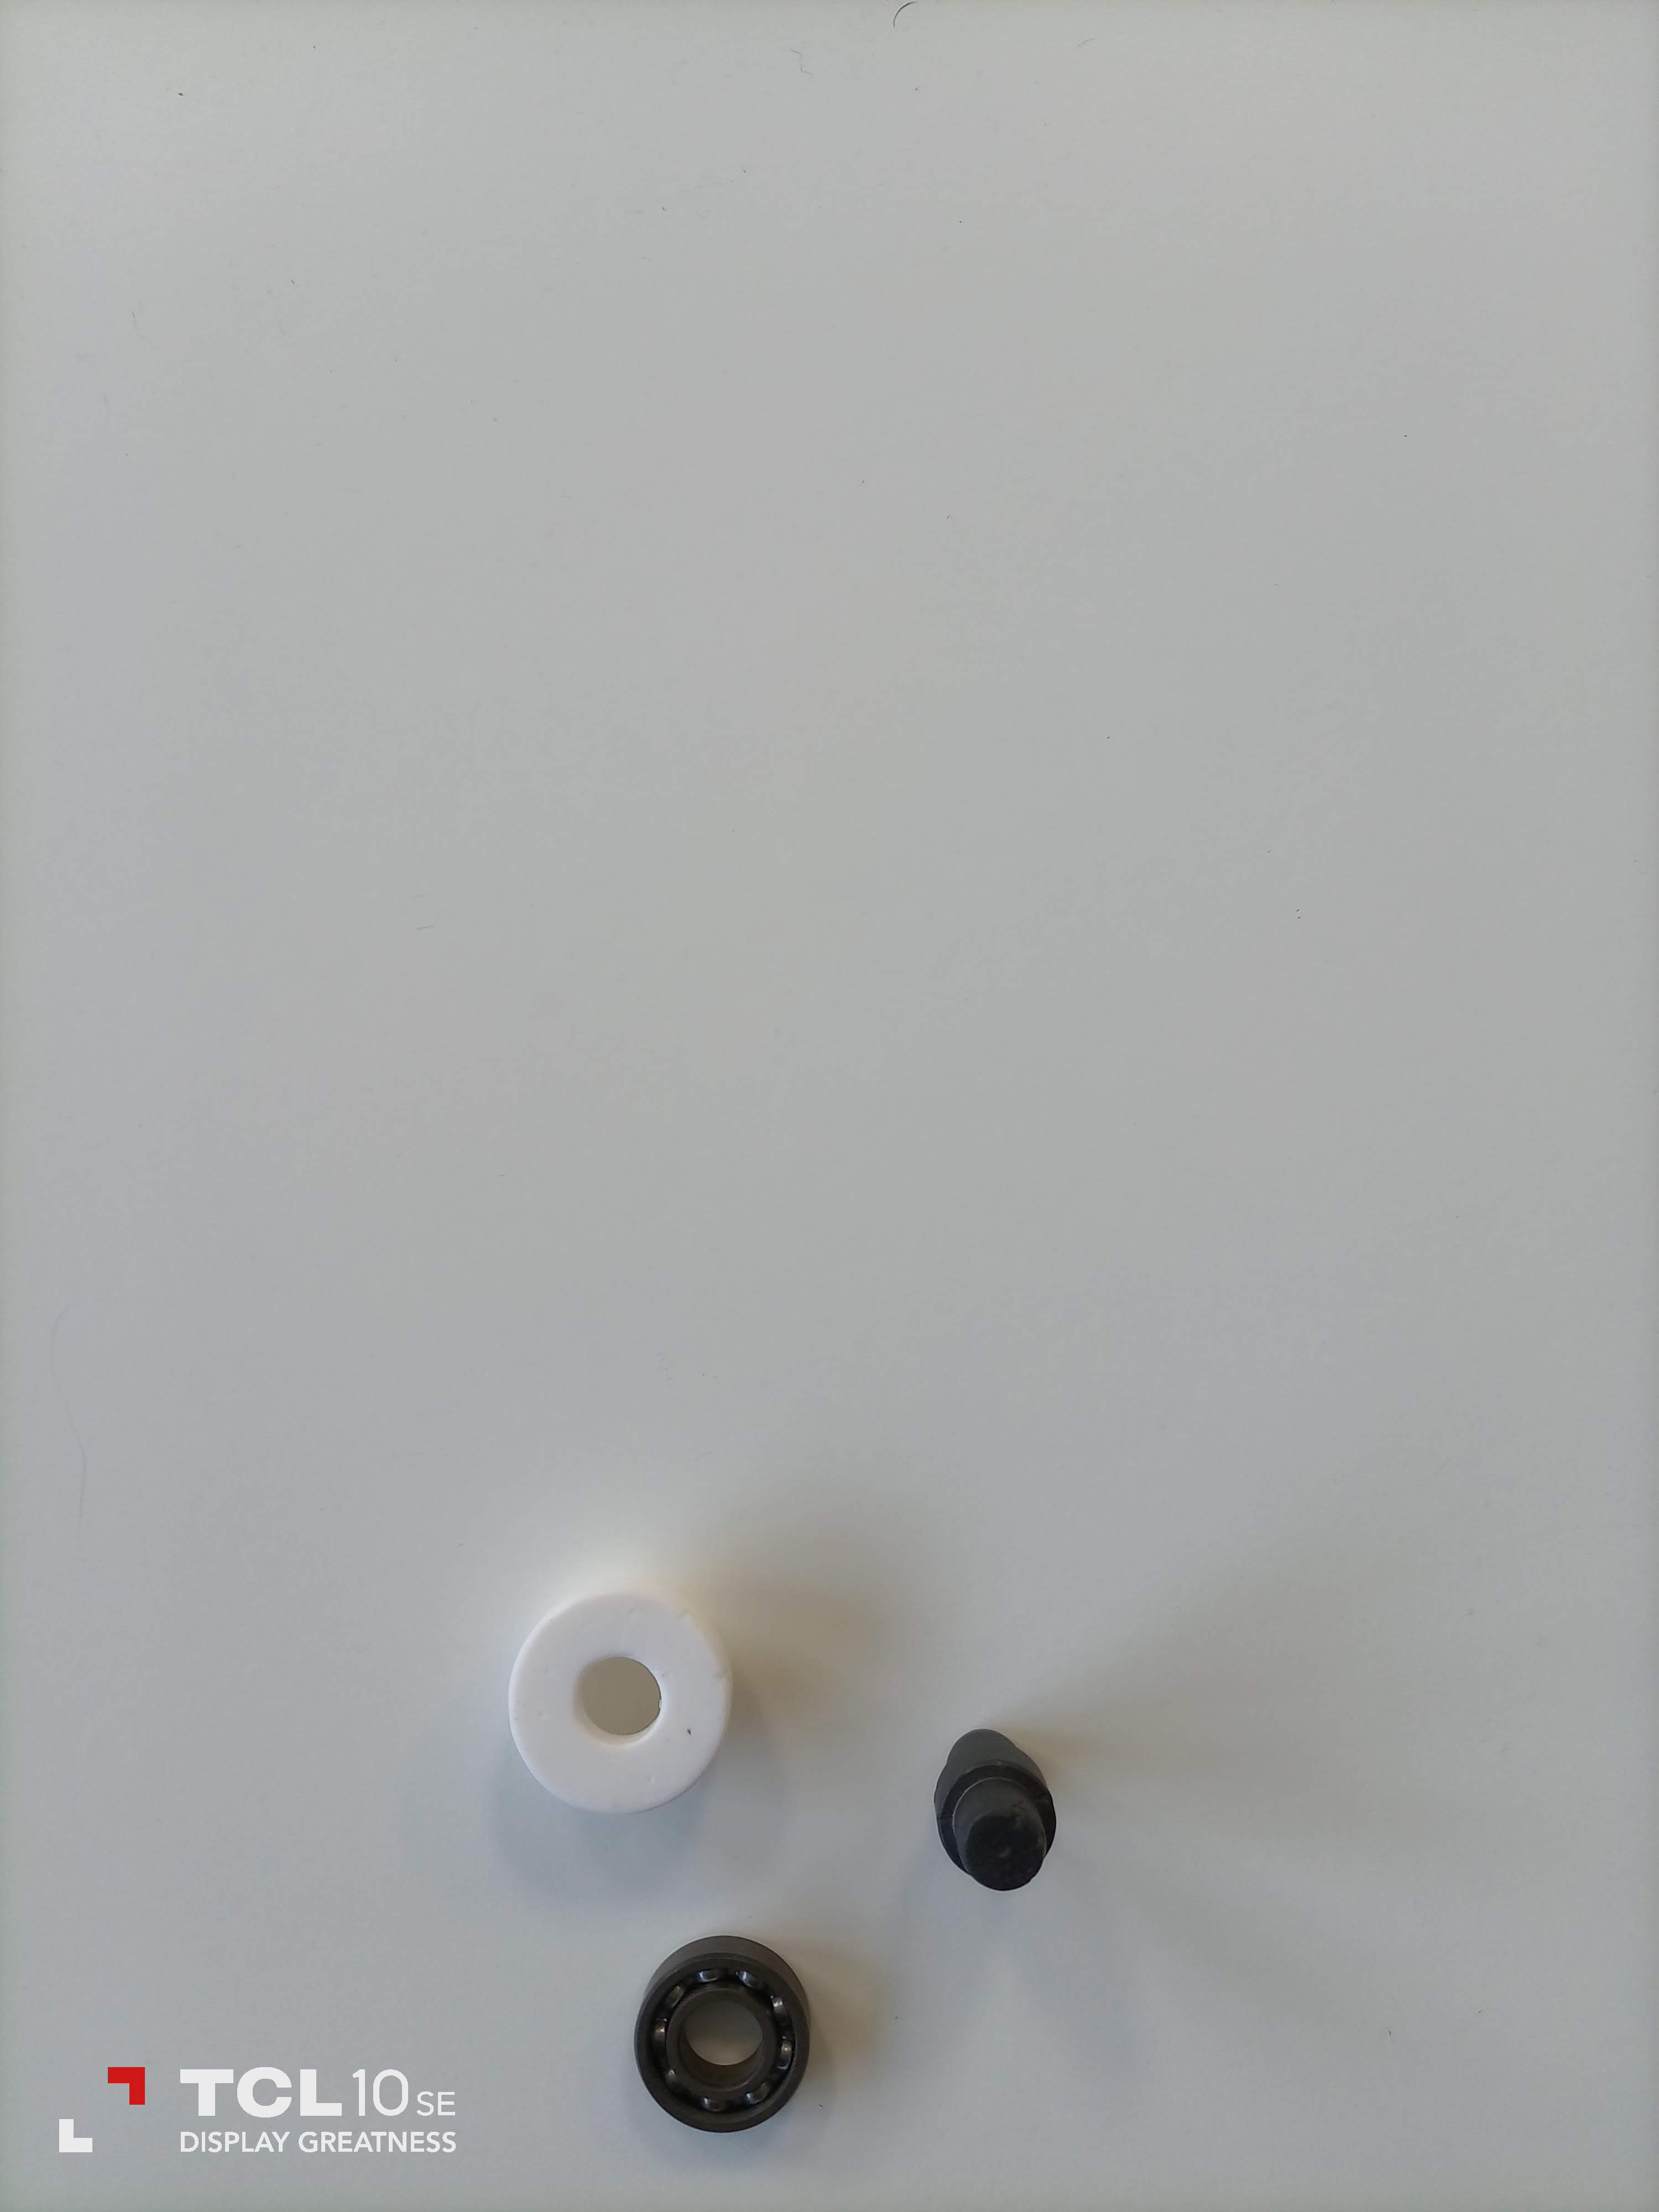Ardatza: (922, 1733, 1073, 1892)
Roda: (622, 1935, 819, 2135)
Tapa: (498, 1585, 734, 1810)
